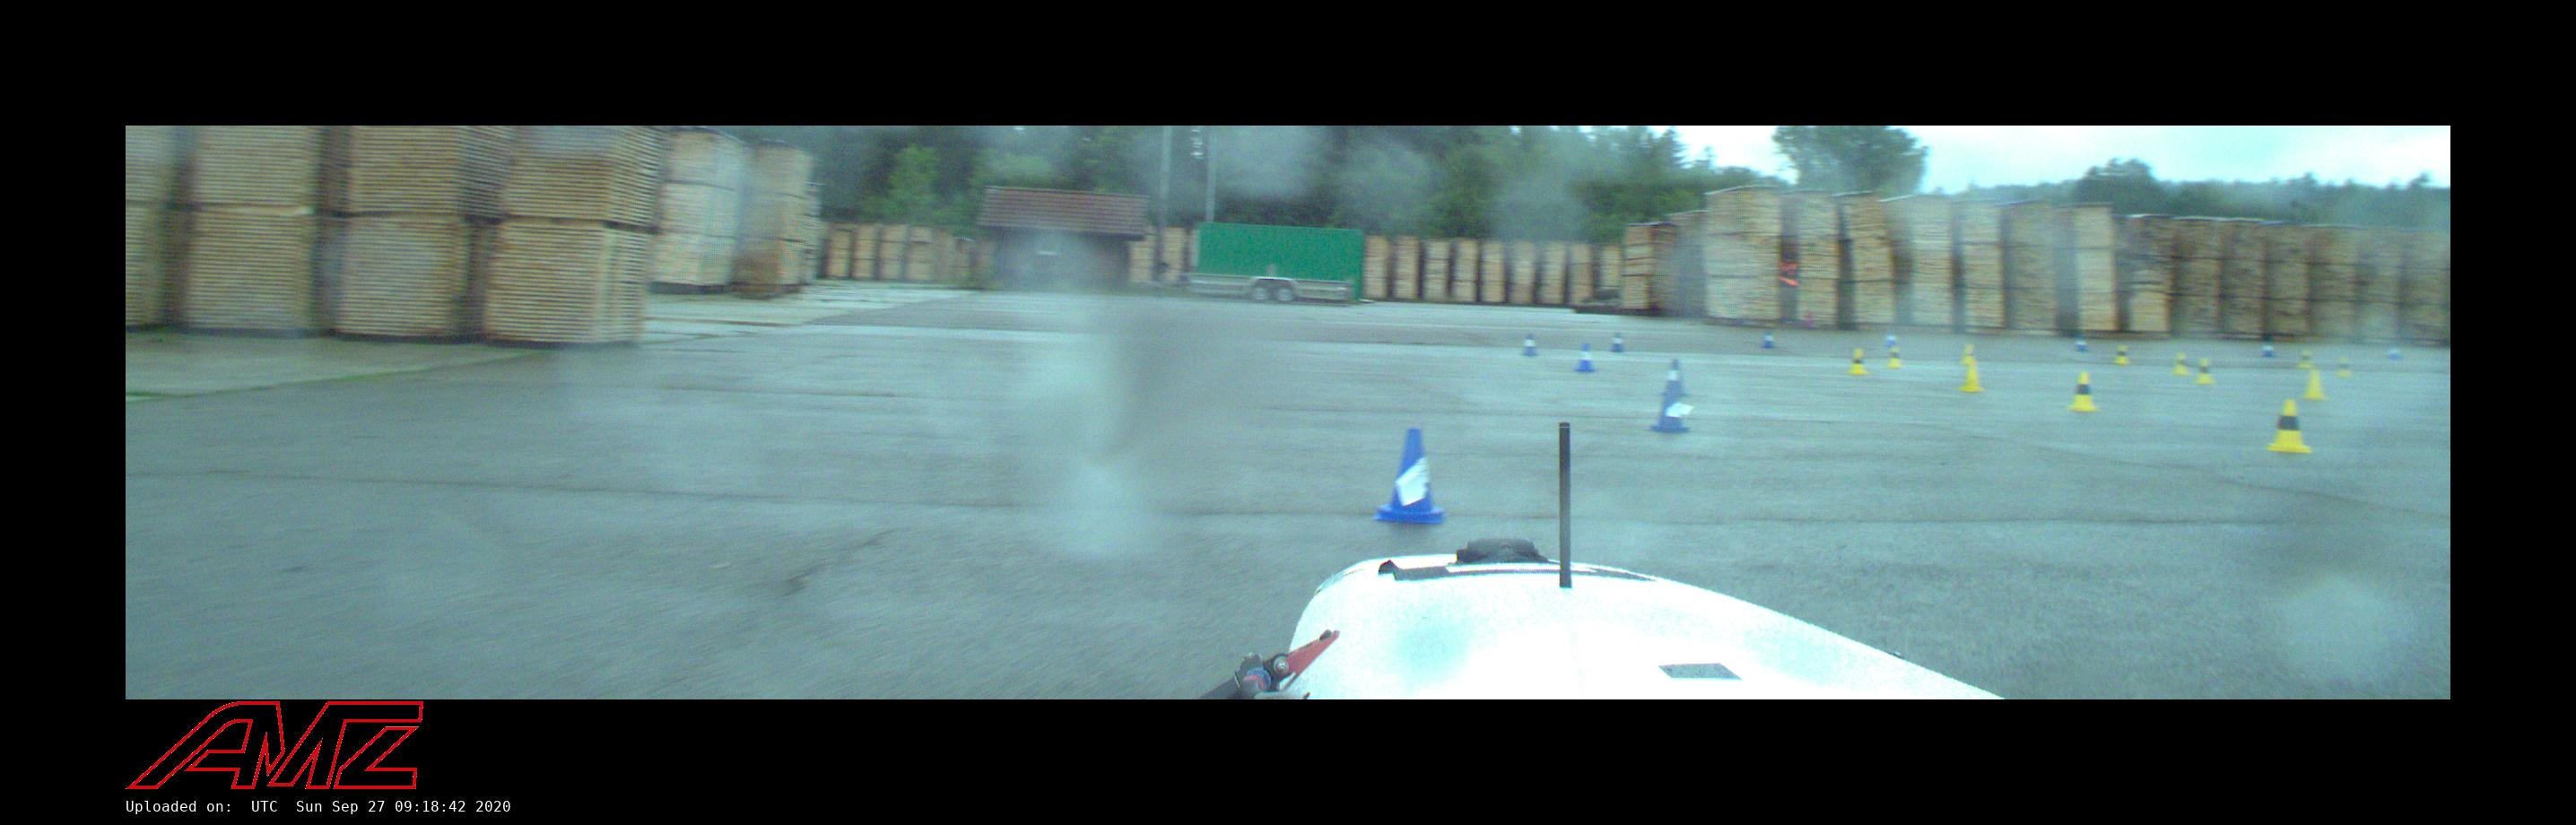blue_cone: (1371, 429, 1449, 523), (1645, 385, 1693, 432), (1658, 360, 1689, 395), (1572, 343, 1597, 371), (1519, 334, 1539, 355), (1610, 333, 1624, 352)
yellow_cone: (2266, 401, 2311, 452), (2067, 373, 2098, 411), (1959, 363, 1983, 391), (2302, 370, 2325, 398), (1848, 350, 1867, 374), (2194, 360, 2212, 383), (2171, 352, 2189, 375), (1886, 347, 1902, 367), (2113, 346, 2128, 363)
